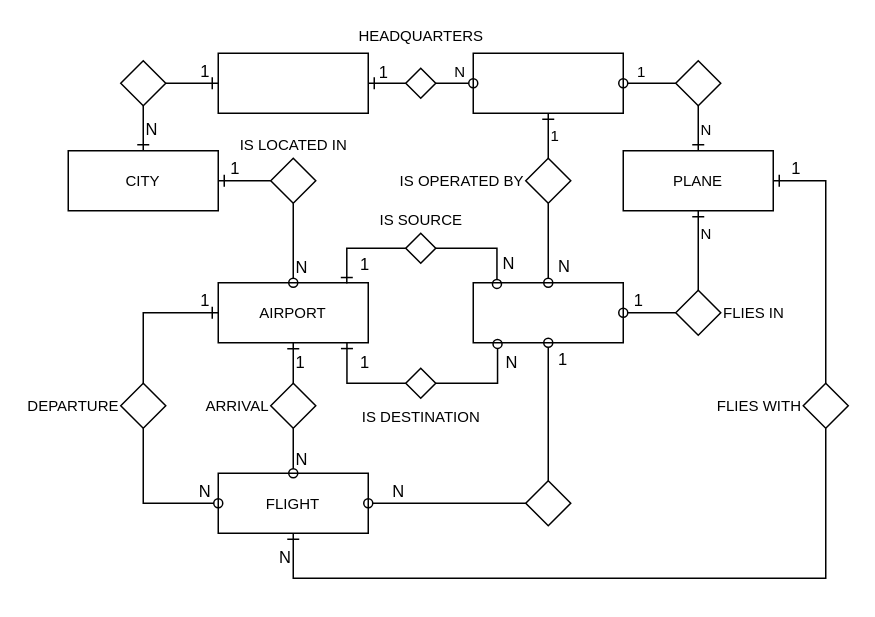
Some shapes in this 875 by 617 pixel diagram are drawn without their labels. Each missing label, with the centre of its shape:
"AIRLINE" belongs at (547,82).
"BELONGS TO" belongs at (142,82).
"COUNTRY" belongs at (292,82).
"HAS LINES" belongs at (697,82).
"OPERATES IN" belongs at (547,502).
"ROUTE" belongs at (547,312).
